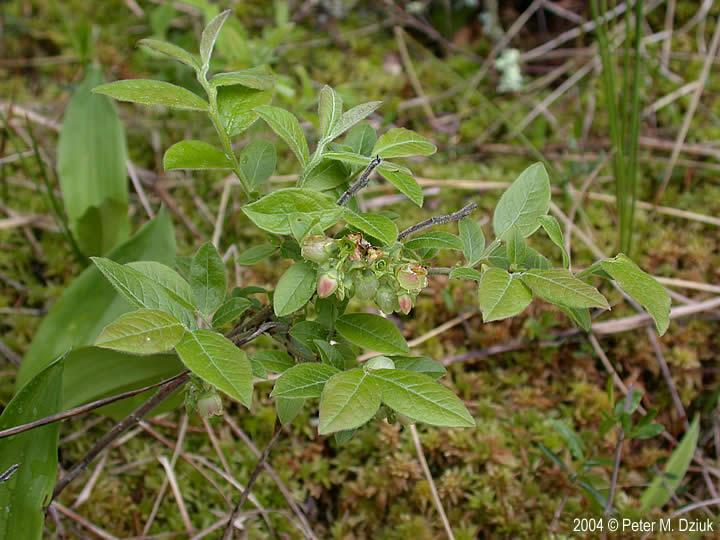Blueberry leaf: (590, 243, 686, 342), (366, 365, 481, 440), (181, 321, 265, 419), (486, 149, 554, 259), (97, 257, 198, 328), (371, 121, 443, 214), (307, 363, 388, 445), (300, 82, 377, 160), (324, 312, 432, 367), (476, 257, 544, 330), (90, 307, 188, 357), (153, 134, 240, 190), (512, 268, 619, 313), (182, 238, 234, 321), (87, 76, 193, 115), (186, 10, 233, 96)
